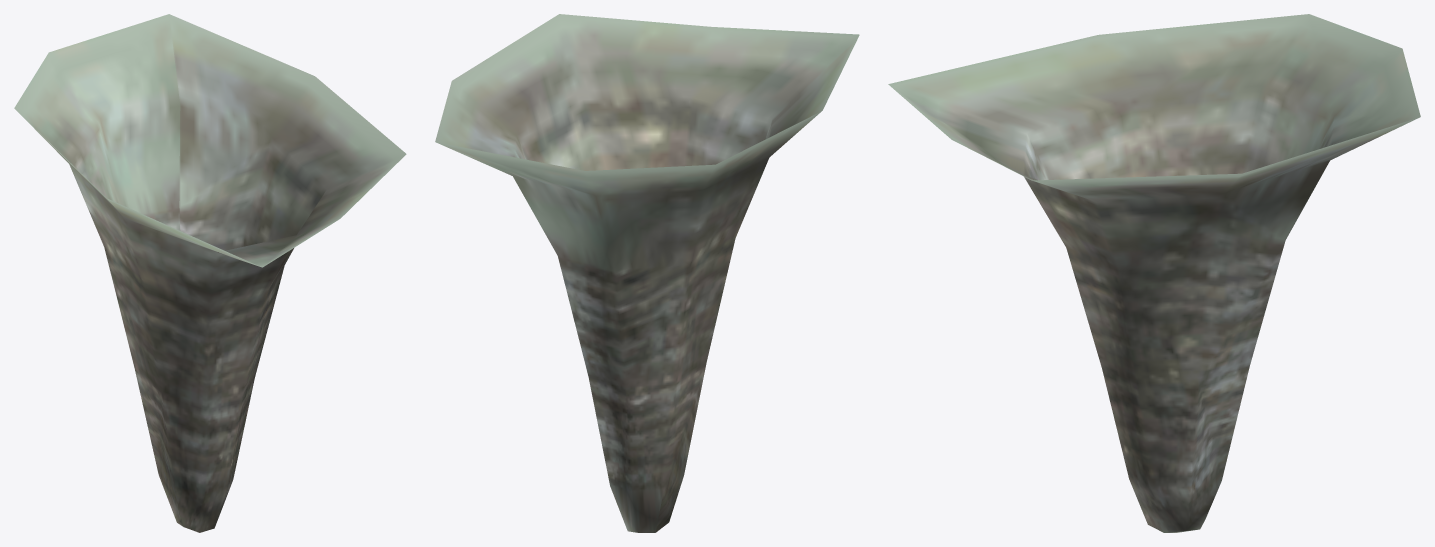
Rendered from TROLLHOLE02_PS-MAINSTALAG.fbx.
The picture shows the model from 3 angles, left to right: view 1: azimuth 30°, elevation 25°; view 2: azimuth 150°, elevation 25°; view 3: azimuth 270°, elevation 25°; orthographic projection. The views are drawn at different scales.
Visible parts, largest first — view 1: TROLLHOLE02_PS-MAINSTALAG; view 2: TROLLHOLE02_PS-MAINSTALAG; view 3: TROLLHOLE02_PS-MAINSTALAG.
Part boxes in pixels (x1,y1,x2,y2): TROLLHOLE02_PS-MAINSTALAG: (14, 14, 406, 532); TROLLHOLE02_PS-MAINSTALAG: (435, 14, 859, 532); TROLLHOLE02_PS-MAINSTALAG: (888, 14, 1420, 532).
Size of the model in its own units: 20607 by 29978 by 31413.
1 material, 1 textured.
